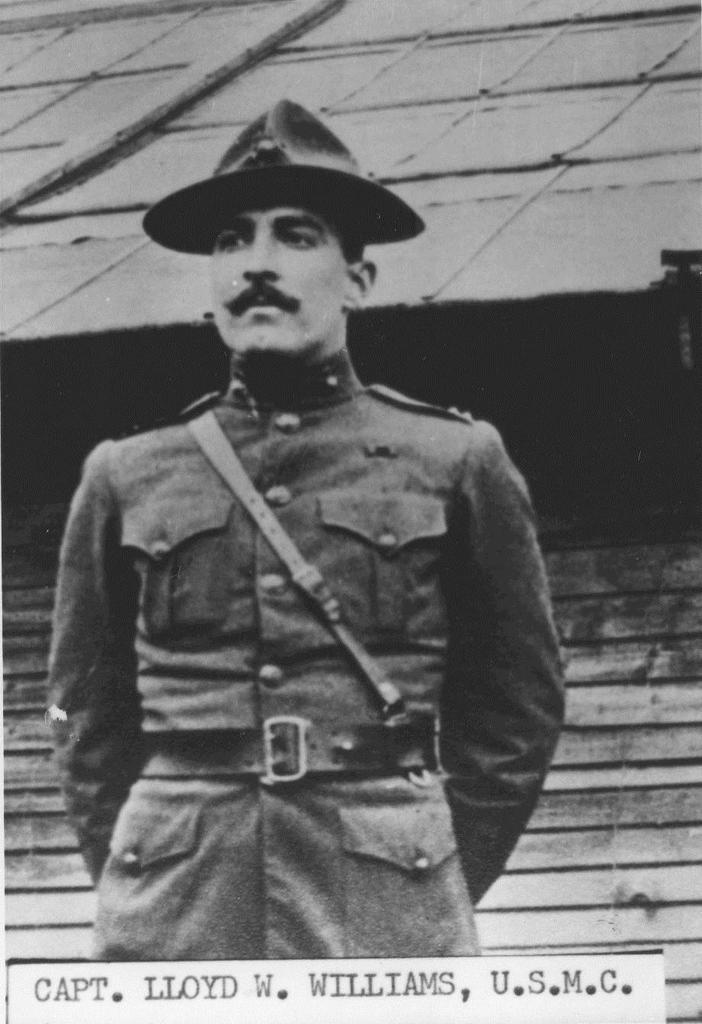Hat: (140, 98, 428, 253)
